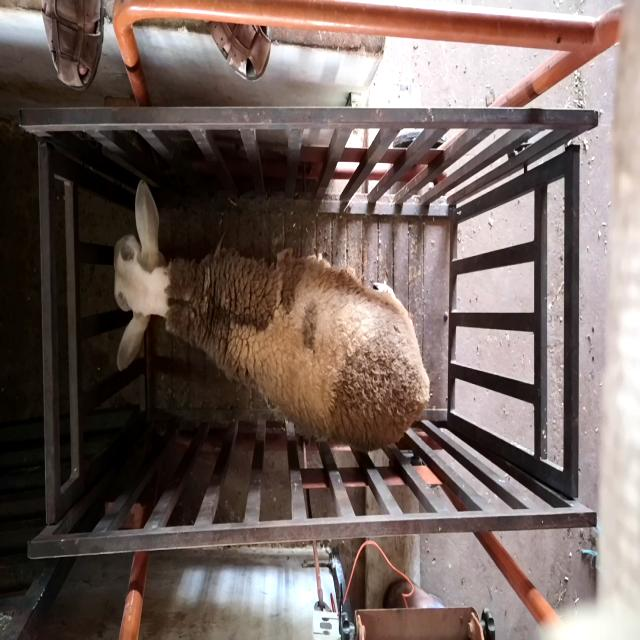sheep: (113, 179, 431, 451)
